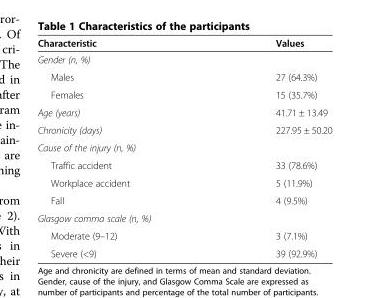table: (36, 36, 331, 258)
table column: (36, 36, 212, 258), (212, 36, 331, 258)
table column header: (36, 36, 331, 50)
table projected row header: (36, 138, 331, 156), (36, 50, 331, 67), (36, 209, 331, 226)
table row: (36, 67, 331, 85), (36, 85, 331, 103), (36, 120, 331, 138), (36, 138, 331, 156), (36, 173, 331, 191), (36, 191, 331, 209), (36, 226, 331, 244), (36, 50, 331, 67), (36, 103, 331, 120), (36, 156, 331, 173), (36, 209, 331, 226), (36, 36, 331, 50), (36, 244, 331, 258)
